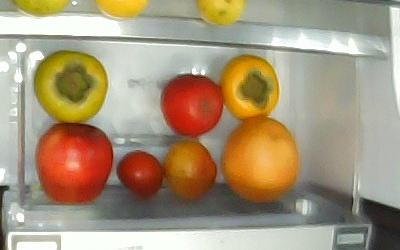apple: (34, 121, 113, 205), (159, 73, 223, 136)
grapefruit: (219, 115, 299, 203)
persimmon: (32, 49, 108, 123), (217, 53, 279, 120)
prune: (159, 136, 216, 202), (115, 148, 163, 198)
